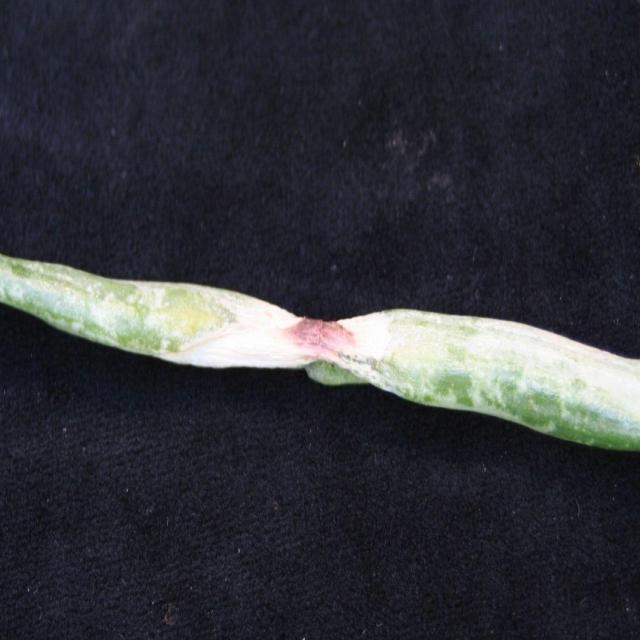blight: (288, 296, 355, 370)
